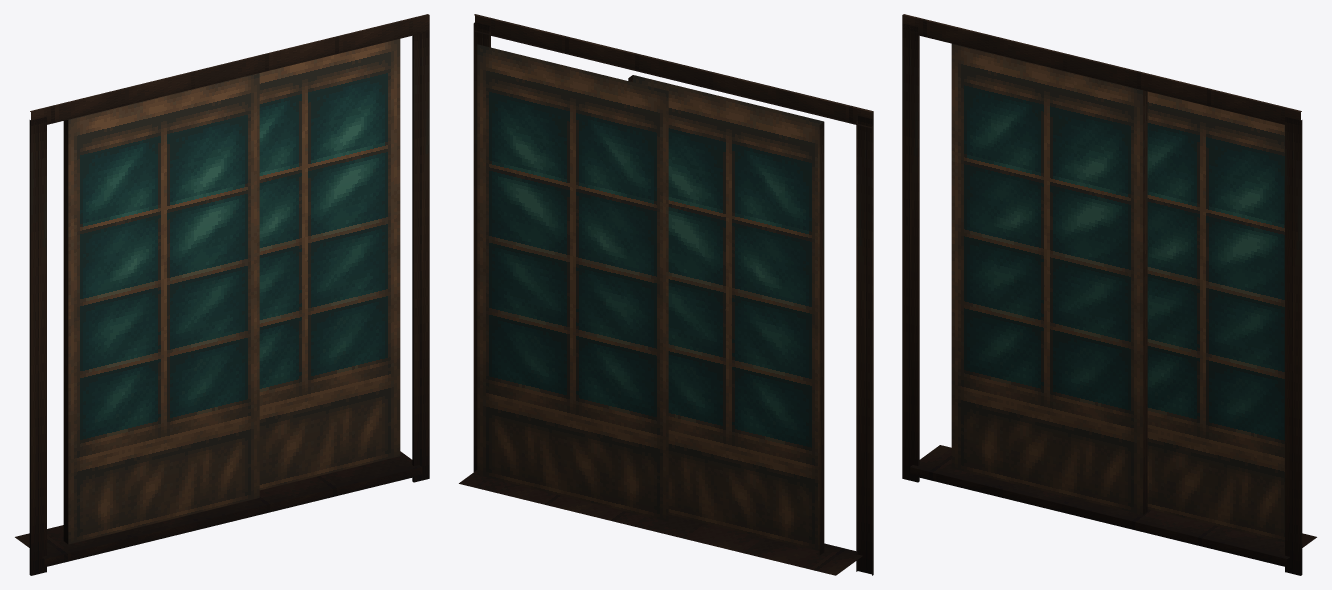
Rendered from prop_sash-14-16-4.glb.
The picture shows the model from 3 angles, left to right: view 1: azimuth 30°, elevation 25°; view 2: azimuth 150°, elevation 25°; view 3: azimuth 330°, elevation 25°; orthographic projection.
Visible parts, largest first — view 1: prop_sash-14-16-4; view 2: prop_sash-14-16-4; view 3: prop_sash-14-16-4.
Part boxes in pixels (x1,y1,x2,y2): prop_sash-14-16-4: (15,14,429,575); prop_sash-14-16-4: (459,14,873,575); prop_sash-14-16-4: (902,14,1316,575).
Size of the model in its own units: 1.52 by 1.69 by 0.2.
Materials: 2 (2 with a texture image).
